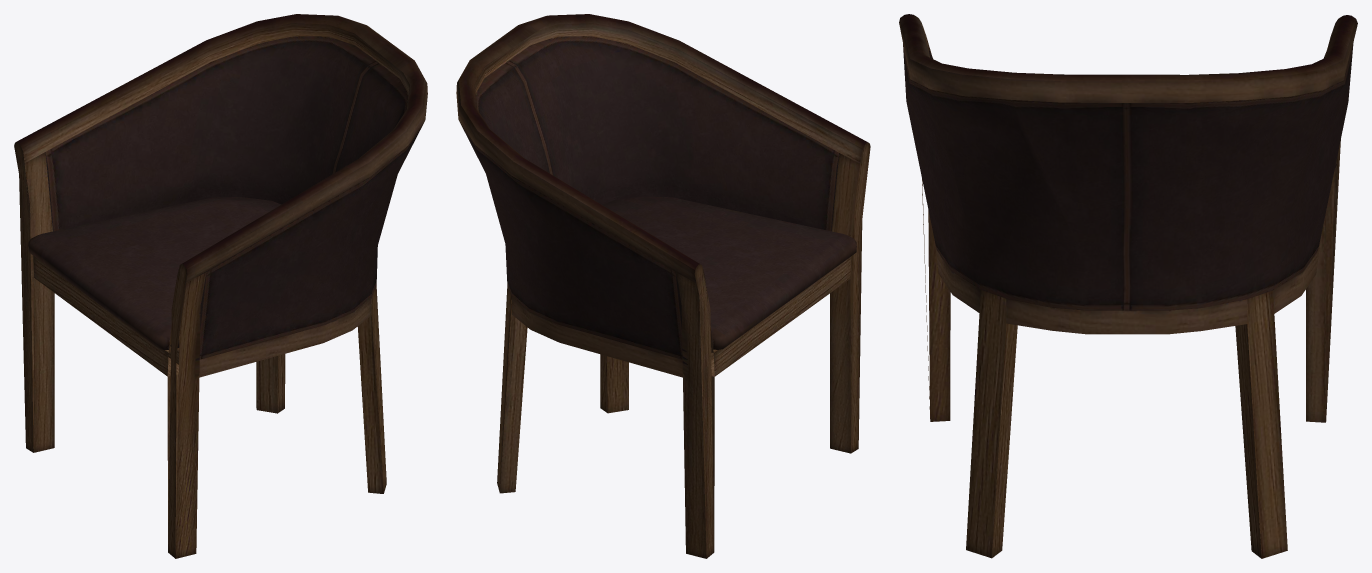
The model's file is chair.fbx.
3 renders of one model, left to right at view 1: azimuth 30°, elevation 25°; view 2: azimuth 150°, elevation 25°; view 3: azimuth 270°, elevation 25°, orthographic. The views are drawn at different scales.
Visible parts, largest first — view 1: Sedia; view 2: Sedia; view 3: Sedia.
Part boxes in pixels (x1,y1,x2,y2): Sedia: [14, 14, 427, 558]; Sedia: [456, 14, 870, 558]; Sedia: [899, 14, 1357, 558].
Size of the model in its own units: 61.91 by 76.86 by 62.01.
